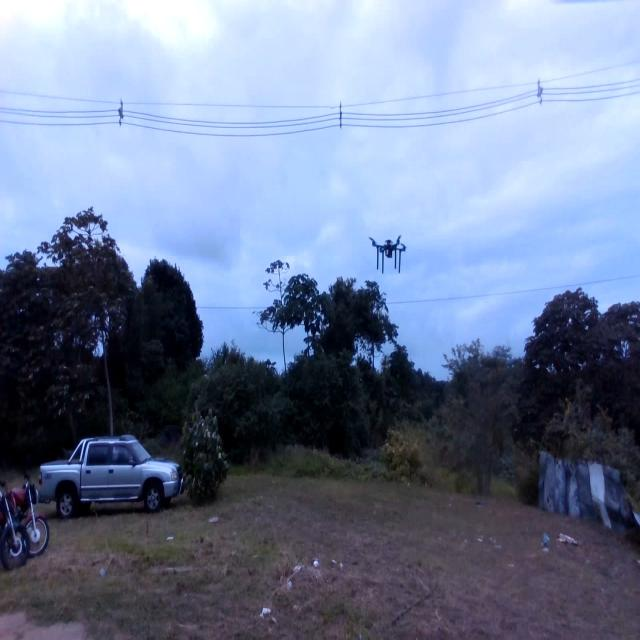-uav-: (364, 224, 414, 278)
